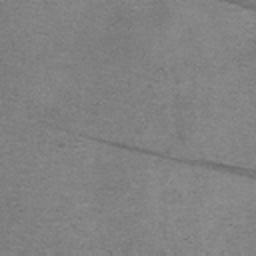Finishing roll printing: (73, 133, 256, 180)
